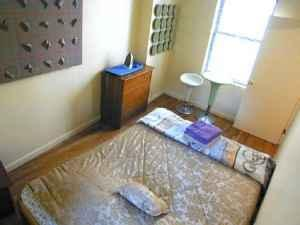Cama: (18, 111, 275, 222)
Ventana: (198, 2, 280, 75)
